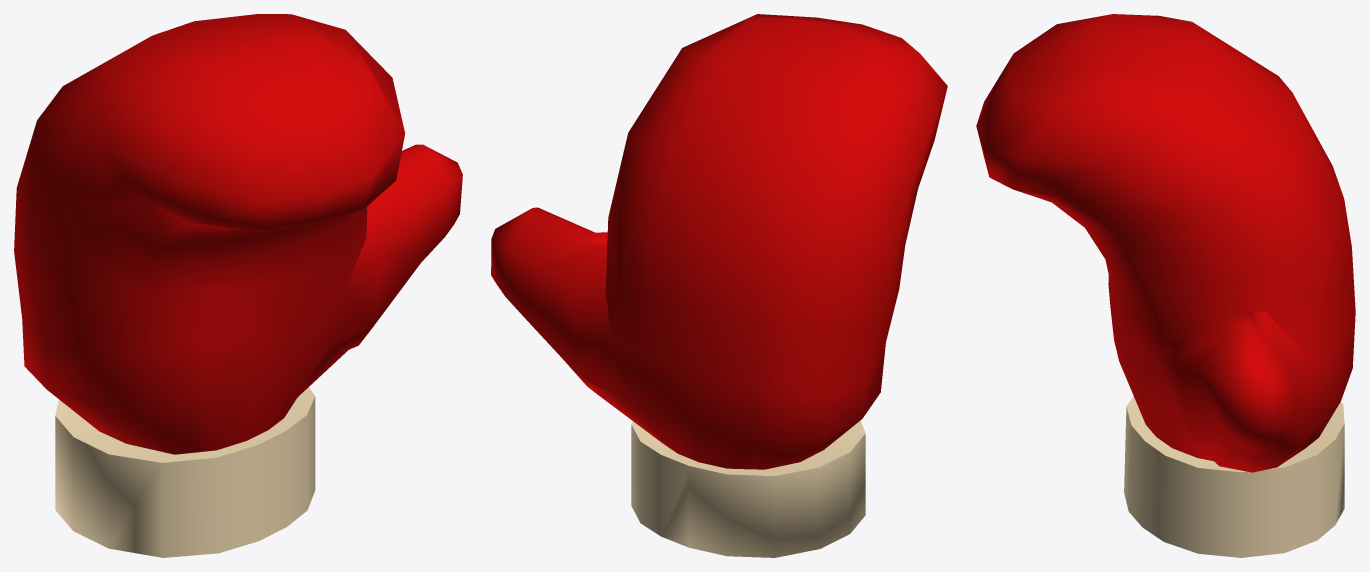
Rendered from Boxer_2.fbx.
The picture shows the model from 3 angles, left to right: view 1: azimuth 30°, elevation 25°; view 2: azimuth 150°, elevation 25°; view 3: azimuth 270°, elevation 25°; orthographic projection. The views are drawn at different scales.
Visible parts, largest first — view 1: Boxer_2; view 2: Boxer_2; view 3: Boxer_2.
Boxes of the visible parts, x1,y1,x2,y2 form: Boxer_2: (14, 14, 462, 557); Boxer_2: (491, 14, 947, 557); Boxer_2: (976, 14, 1355, 557).
Bounding box in the file's own units: 0.2451 × 0.2681 × 0.1993.
